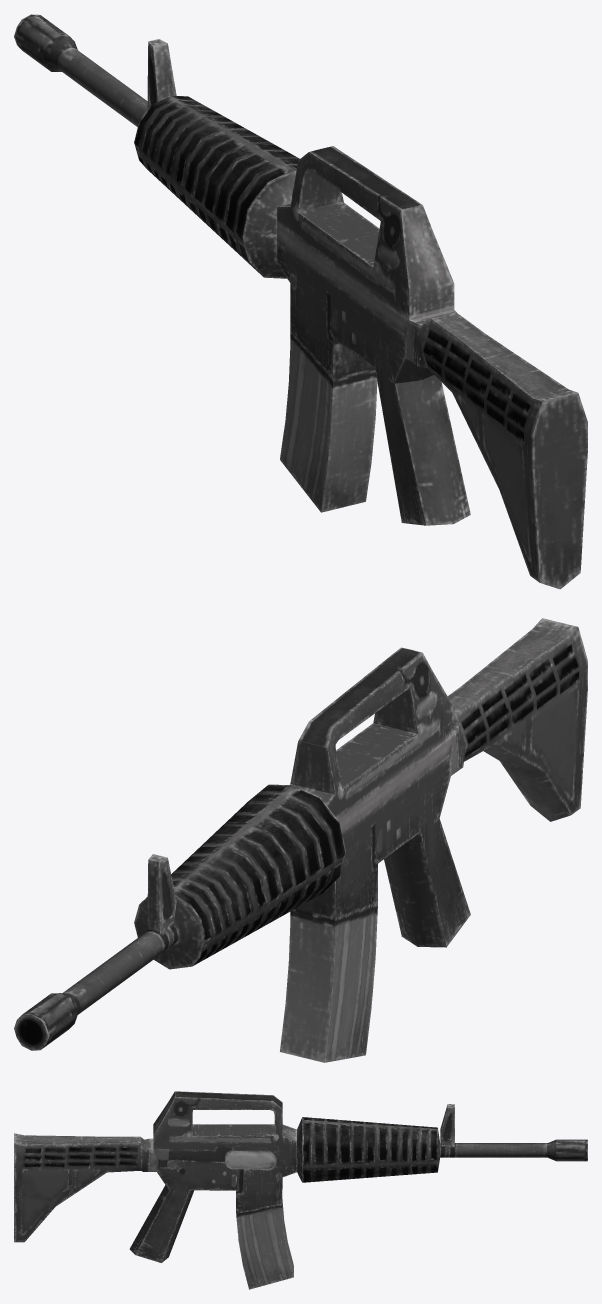
File: Props_Rifle_1.FBX
3 renders of one model, top to bottom at view 1: azimuth 30°, elevation 25°; view 2: azimuth 150°, elevation 25°; view 3: azimuth 270°, elevation 25°, orthographic. The views are drawn at different scales.
Parts seen in each view (by area): view 1: Rifle_1; view 2: Rifle_1; view 3: Rifle_1.
Part boxes in pixels (left/top/right/bottom): Rifle_1: left=14, top=14, right=587, bottom=589; Rifle_1: left=14, top=618, right=587, bottom=1062; Rifle_1: left=14, top=1091, right=587, bottom=1289.
Size of the model in its own units: 20.96 by 68.01 by 186.
Materials: 1 (1 with a texture image).
